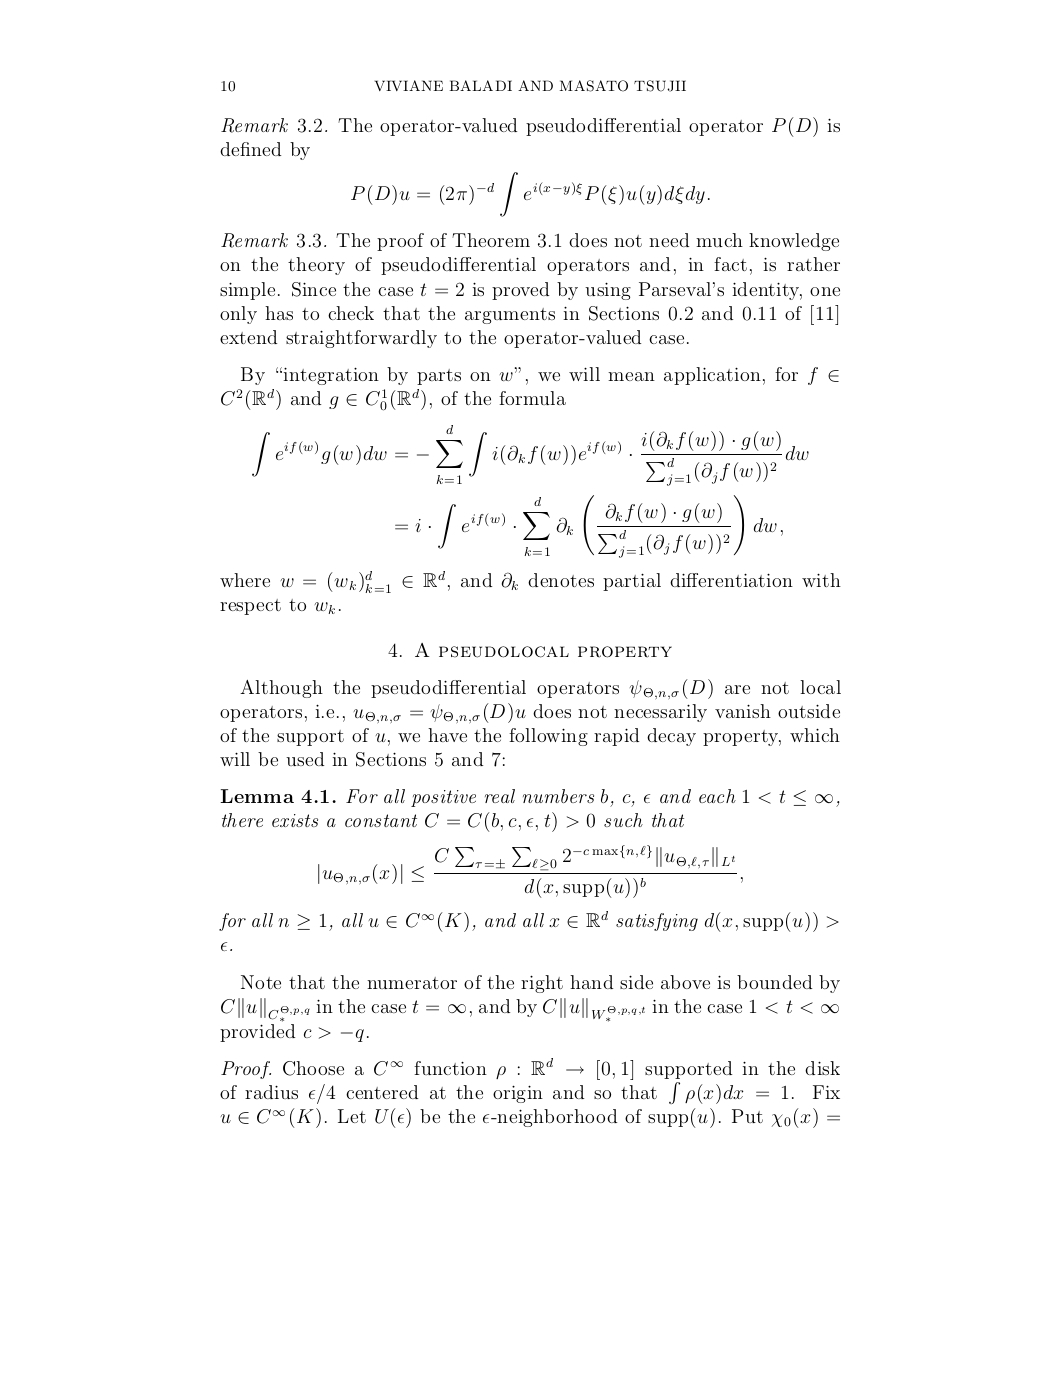formula: (252, 423, 808, 486), (395, 494, 782, 558), (318, 844, 742, 898), (351, 171, 709, 217)
